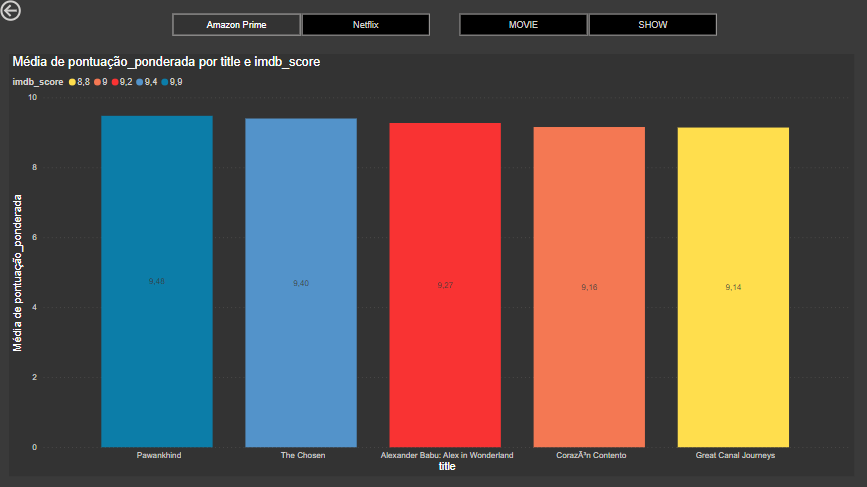

This screenshot's page, from the dashboard's own definition file:
{"tool":"powerbi","page":{"name":"Página 3","canvas":[1280,720],"ordinal":2},"visuals":[{"type":"actionButton","box":[0,0,100,40],"z":0},{"type":"columnChart","fields":{"Category":["amazon_netflix_limpo.title"],"Y":["Avg(amazon_netflix_limpo.pontuação_ponderada)"],"Series":["amazon_netflix_limpo.imdb_score"]},"box":[17.3,83.5,1242.7,620.6],"z":1000},{"type":"slicer","fields":{"Values":["amazon_netflix_limpo.streaming"]},"box":[234.7,20.2,421.9,40.3],"z":2000},{"type":"slicer","fields":{"Values":["amazon_netflix_limpo.type"]},"box":[656.6,20.2,421.9,40.3],"z":3000}]}

Visuals, with their boxes in screenshot pixels (x1, y1, x2, y2), scaled from the page's 1280x720 canvas onto the 867x487 screenshot:
actionButton: box(0, 0, 68, 27)
columnChart - amazon_netflix_limpo.title x Avg(amazon_netflix_limpo.pontuação_ponderada): box(12, 56, 853, 476)
slicer - amazon_netflix_limpo.streaming: box(159, 14, 445, 41)
slicer - amazon_netflix_limpo.type: box(445, 14, 731, 41)
